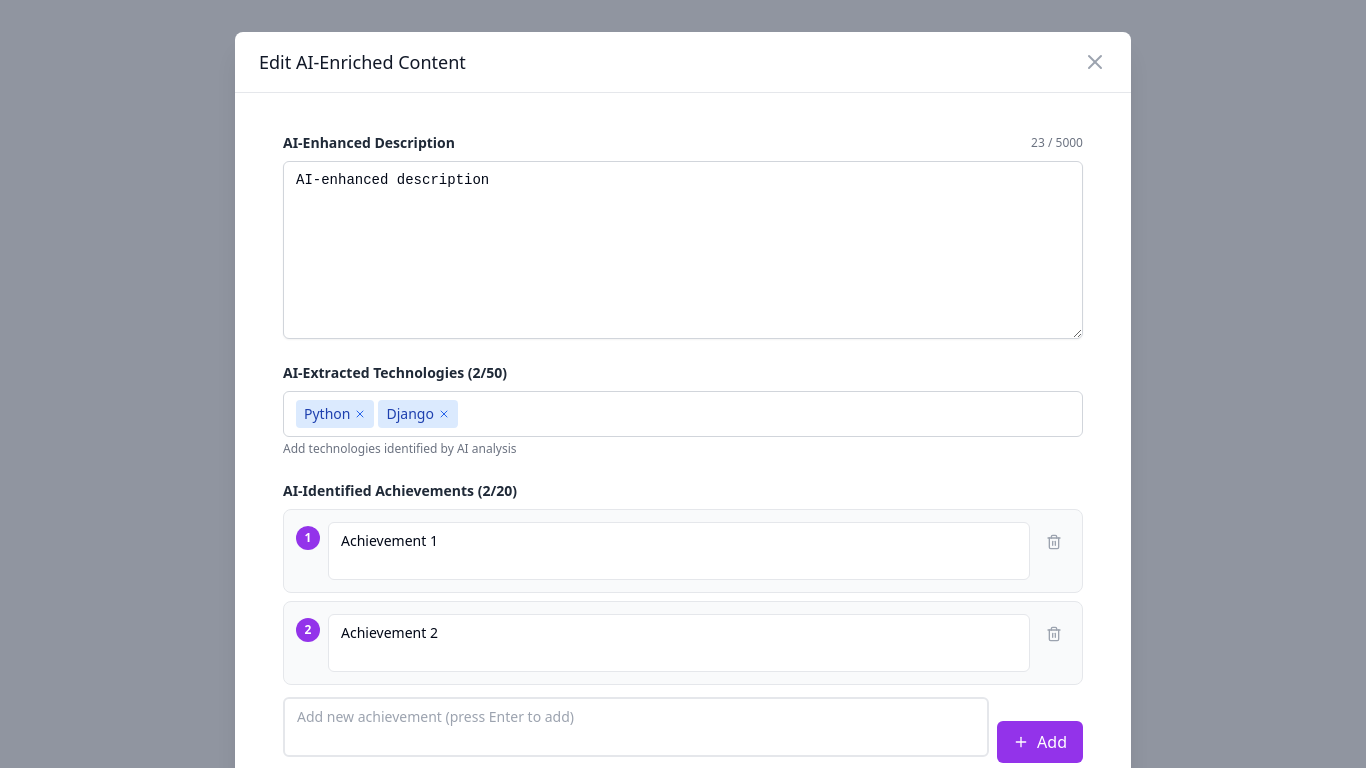
Test: EnrichedContentEditor › allows adding new achievement
Type "New achievement" into the text box with placeholder "Add new achievement (press Enter to add)".
click(636, 727); type("New achievement")  # box [283,697,989,757]
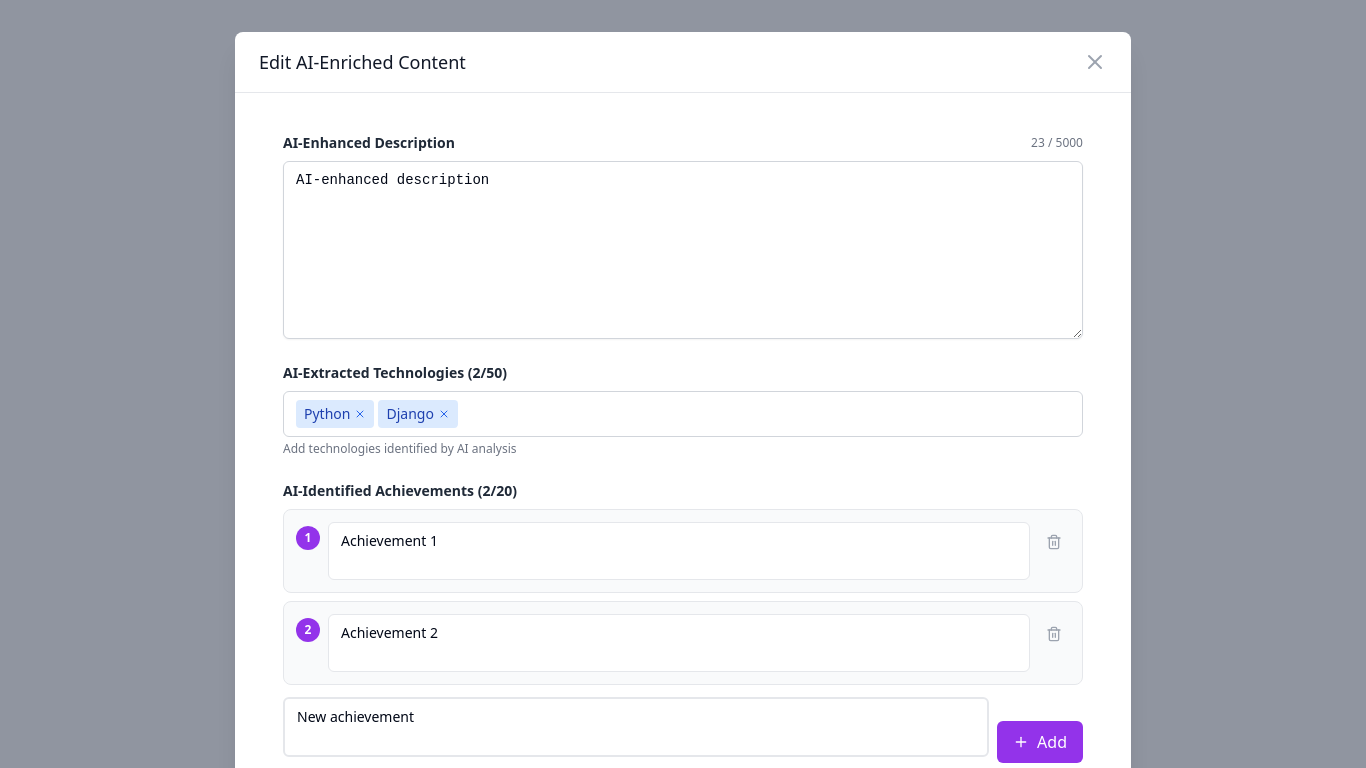
Click the button "Add".
click(1040, 742)  # box [997,721,1083,763]
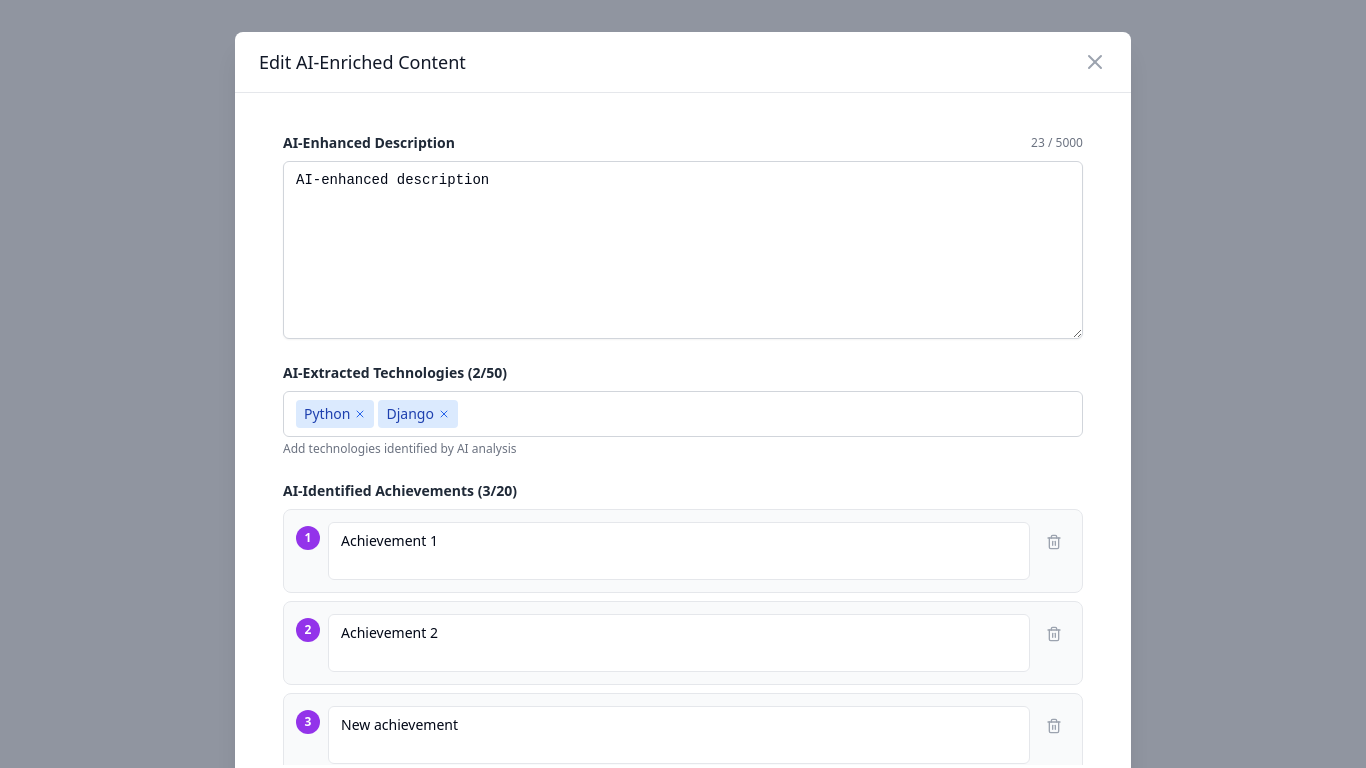
Expected: the 4th text box showing "New achievement" is shown, [328,706,1030,764]
Expected: the text "AI-Identified Achievements (3/20)" is shown, [283,481,517,501]
